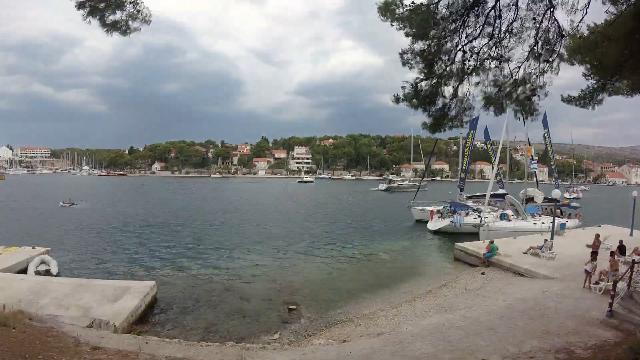Sailboat: (370, 168, 432, 196)
speedboat: (292, 170, 322, 188)
